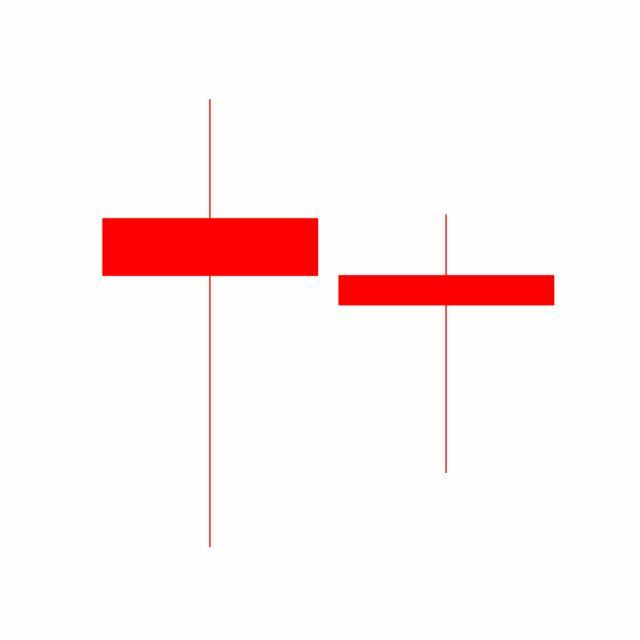Dragonfly Doji: (328, 212, 566, 477)
